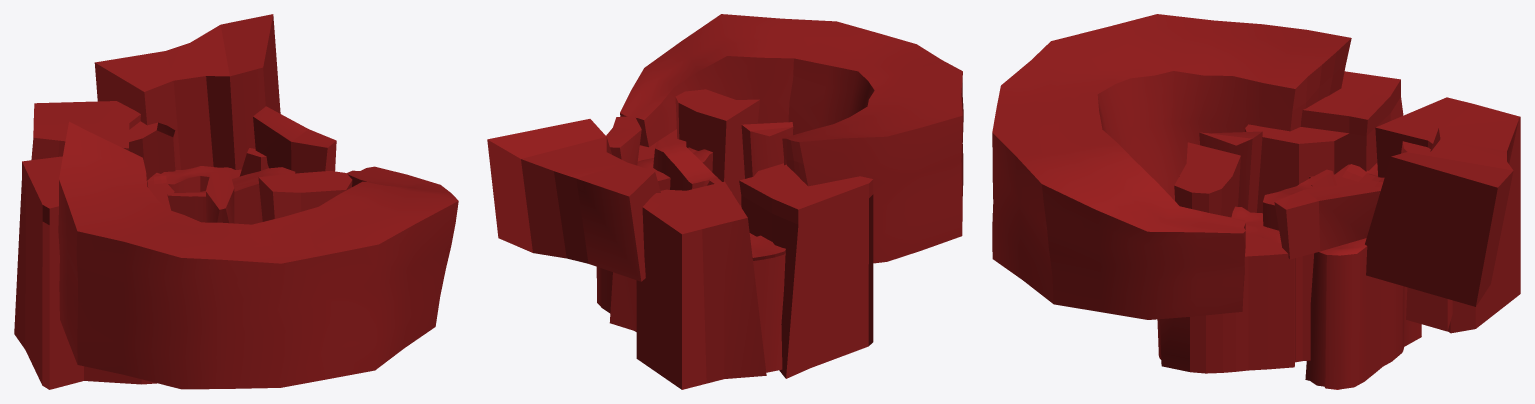
The model's file is Zone3Final 3.FBX.
The picture shows the model from 3 angles, left to right: view 1: azimuth 30°, elevation 25°; view 2: azimuth 150°, elevation 25°; view 3: azimuth 270°, elevation 25°; orthographic projection. The views are drawn at different scales.
Parts seen in each view (by area): view 1: New_Game_Object__3_001; view 2: New_Game_Object__3_001; view 3: New_Game_Object__3_001.
Boxes of the visible parts, x1,y1,x2,y2 form: New_Game_Object__3_001: (14,14,458,389); New_Game_Object__3_001: (487,14,963,389); New_Game_Object__3_001: (992,14,1520,389).
Bounding box in the file's own units: 18956 × 11725 × 23391.
